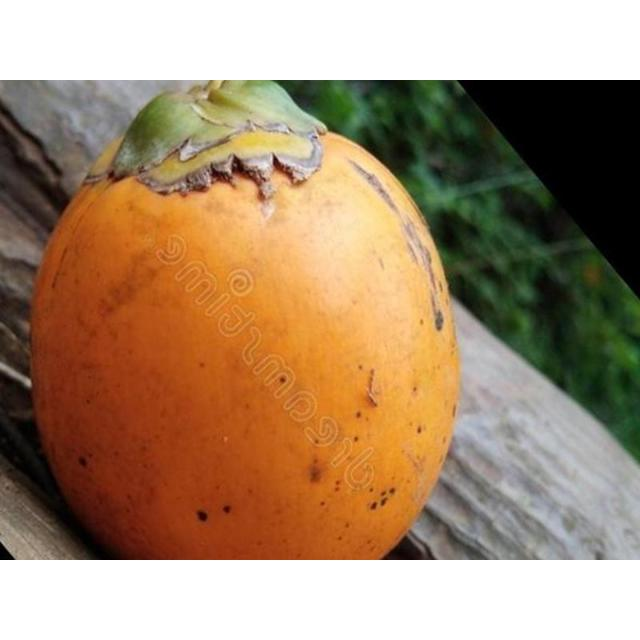good: (30, 80, 462, 559)
